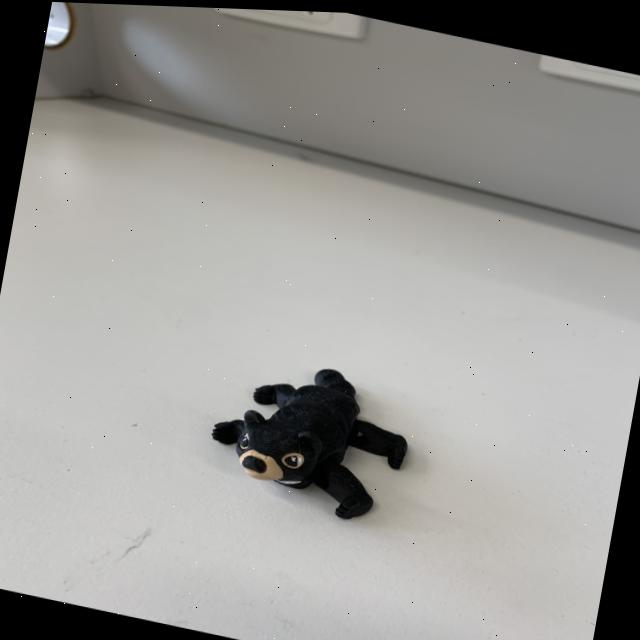tassie devil: (187, 330, 437, 537)
